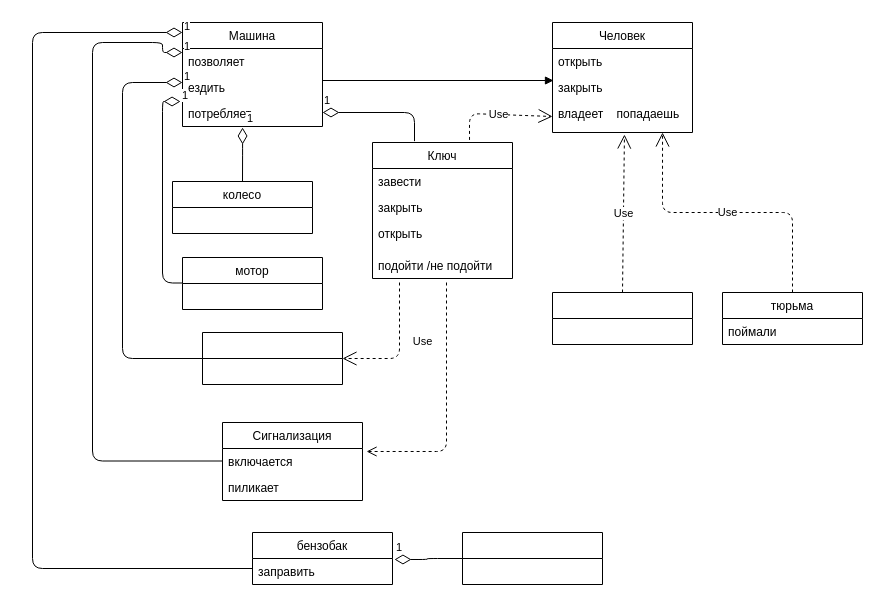
Image size: 880x605. Some labels were removed from this diagram. Each missing label, with the centre of its shape:
замок: the point at 272,358
права: the point at 622,318
топливо: the point at 532,558
